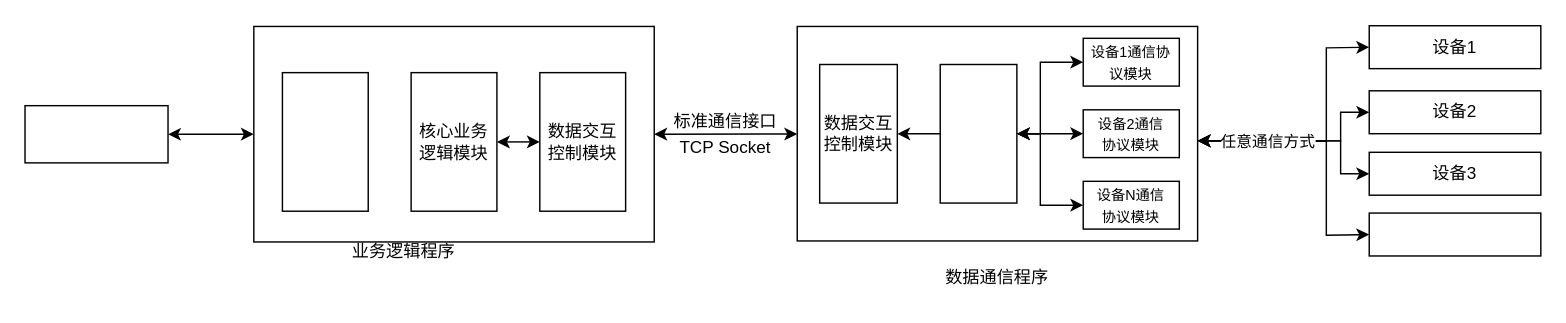
Some shapes in this 1566 by 323 pixel diagram are drawn without their labels. Each missing label, with the centre of its shape:
PC: (x=96, y=133)
其他系统 交互模块: (x=324, y=141)
数据管理模块: (x=978, y=133)
设备N: (x=1454, y=234)
